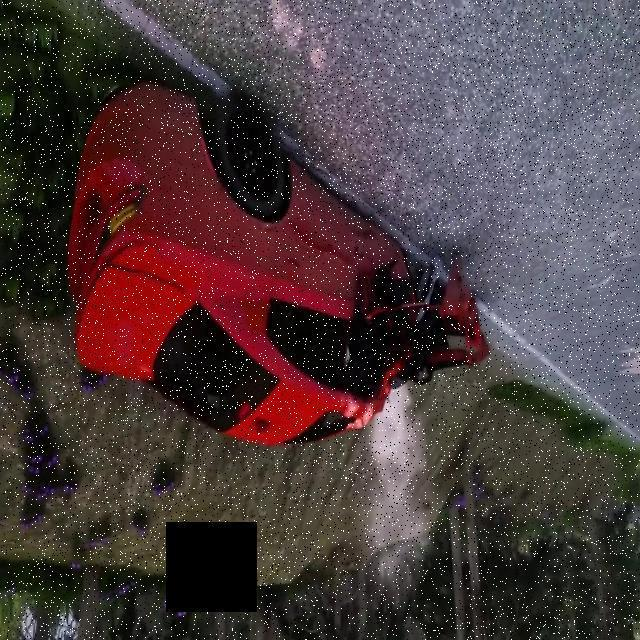vehicle: (61, 42, 503, 442)
